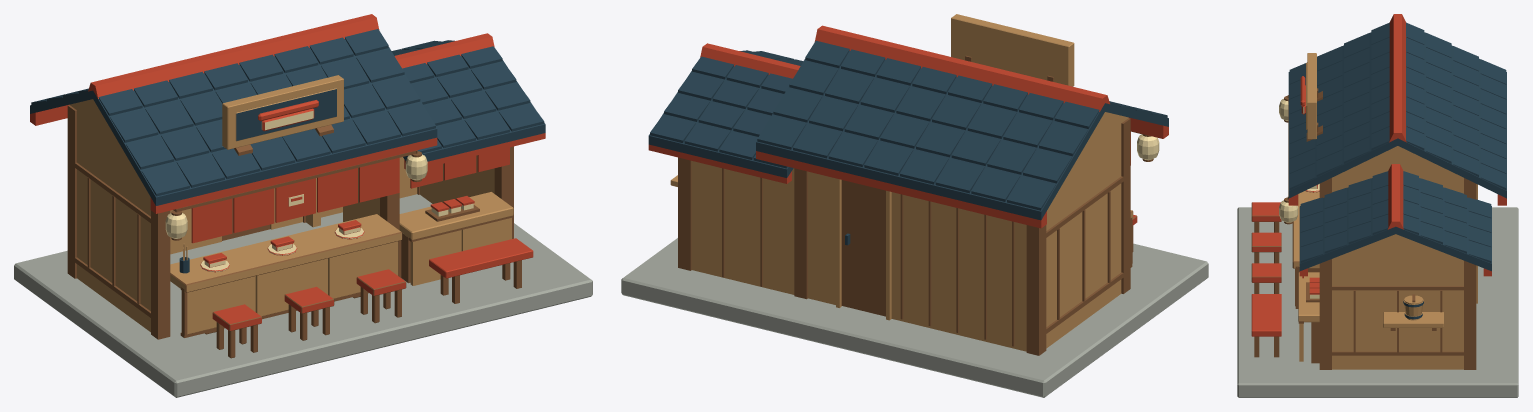
Rendered from craftsman-lv3.glb.
The picture shows the model from 3 angles, left to right: view 1: azimuth 30°, elevation 25°; view 2: azimuth 150°, elevation 25°; view 3: azimuth 270°, elevation 25°; orthographic projection. The views are drawn at different scales.
Parts seen in each view (by area): view 1: Craftsman_L3; view 2: Craftsman_L3; view 3: Craftsman_L3.
Part boxes in pixels (x1,y1,x2,y2): Craftsman_L3: [14, 14, 592, 397]; Craftsman_L3: [621, 14, 1208, 397]; Craftsman_L3: [1237, 14, 1518, 397].
Size of the model in its own units: 6.1 by 3.4 by 4.1.
